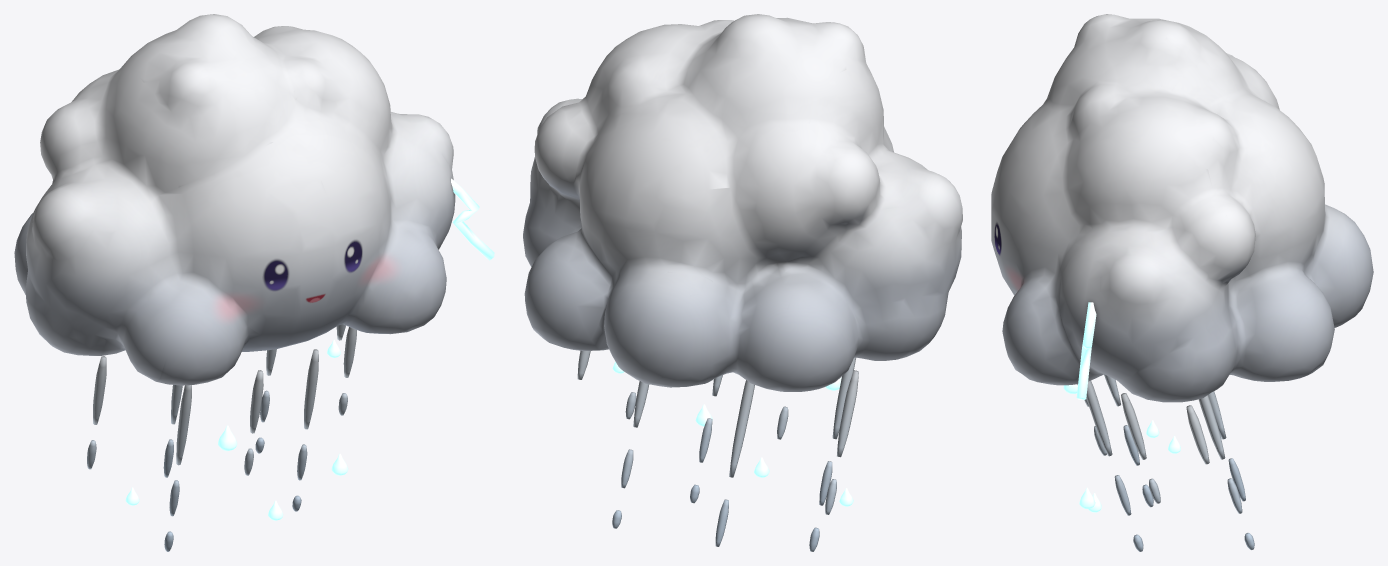
Rendered from cloudspirit.fbx.
3 views of the same model, side by side, from view 1: azimuth 30°, elevation 25°; view 2: azimuth 150°, elevation 25°; view 3: azimuth 270°, elevation 25° (orthographic). The views are drawn at different scales.
Parts seen in each view (by area): view 1: CloudSpirit_Body, CloudSpirit_GLOW; view 2: CloudSpirit_Body, CloudSpirit_GLOW; view 3: CloudSpirit_Body, CloudSpirit_GLOW.
Boxes of the visible parts, x1=… form: CloudSpirit_Body: x1=14, y1=14, x2=455, y2=551; CloudSpirit_GLOW: x1=125, y1=178, x2=494, y2=520; CloudSpirit_Body: x1=523, y1=14, x2=962, y2=551; CloudSpirit_GLOW: x1=612, y1=362, x2=853, y2=506; CloudSpirit_Body: x1=991, y1=14, x2=1373, y2=551; CloudSpirit_GLOW: x1=1063, y1=302, x2=1180, y2=512.
Bounding box in the file's own units: 3.31 × 3.84 × 2.63.
2 materials, 1 textured.
